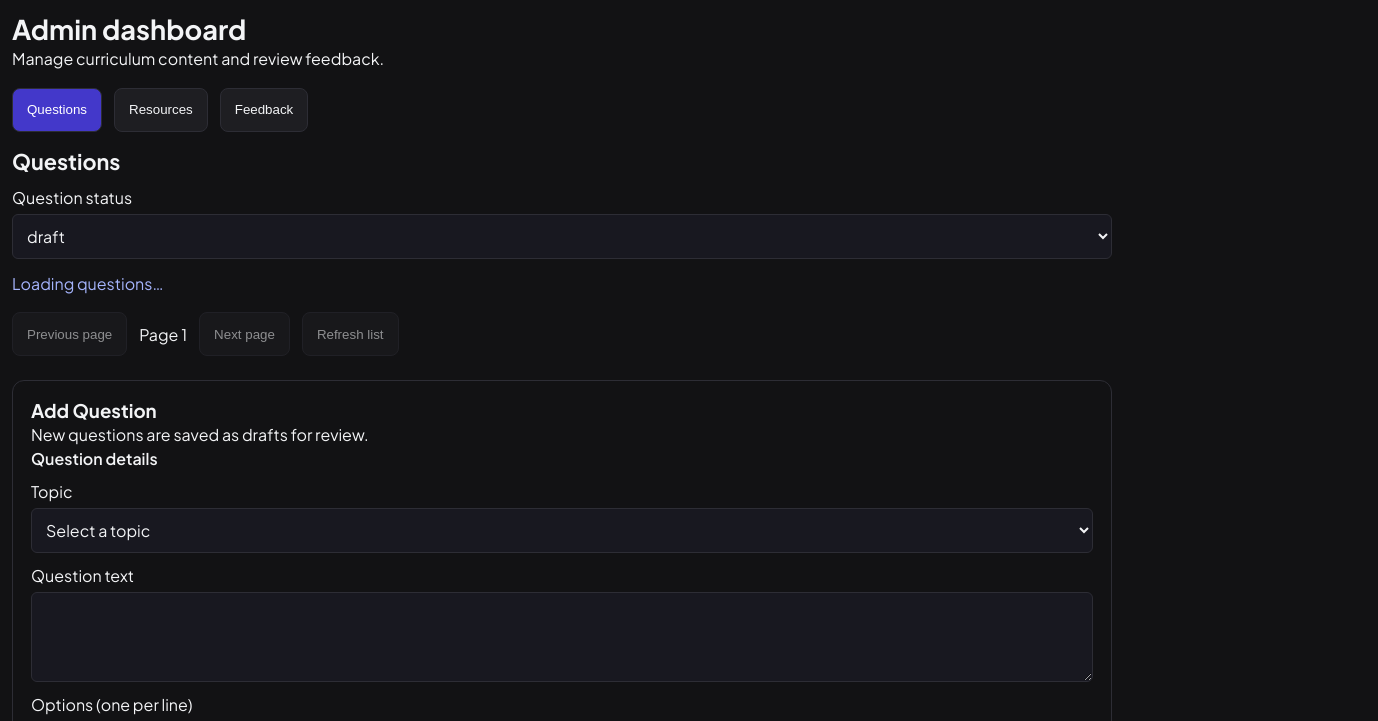
Test: actual loading states and primitive render inventory › announces feedback loading and blocks pagination until the response arrives
The image size is (1378, 721).
Click the tab "Feedback": [264, 110] box [220,88,308,132]
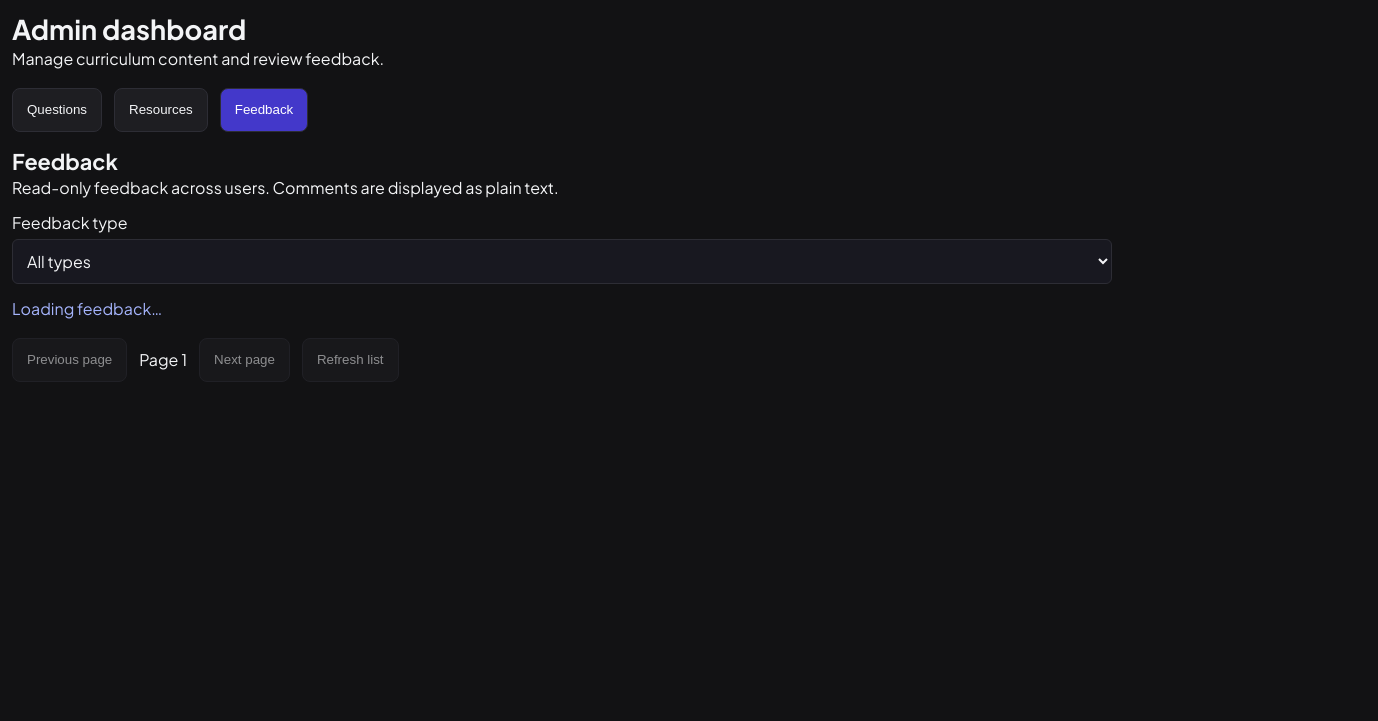
Expected: the button "Next page" is disabled, [199,338,290,382]
Expected: the message shows "Loading feedback", [12,298,162,319]
